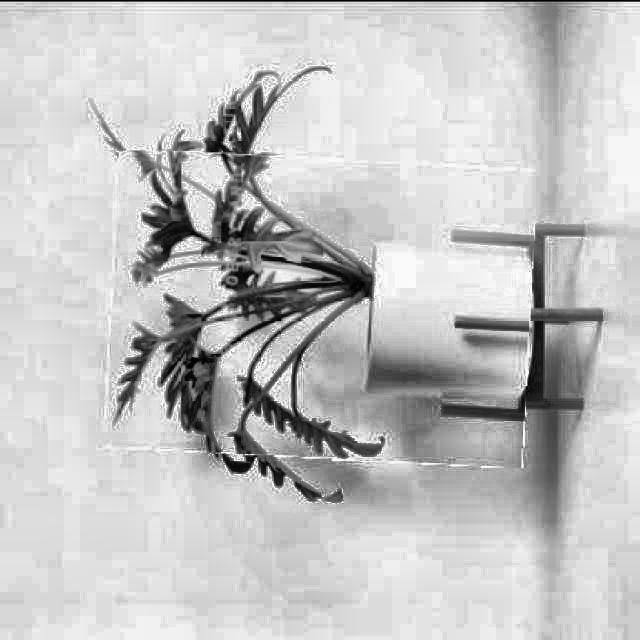plants: (109, 153, 534, 461)
